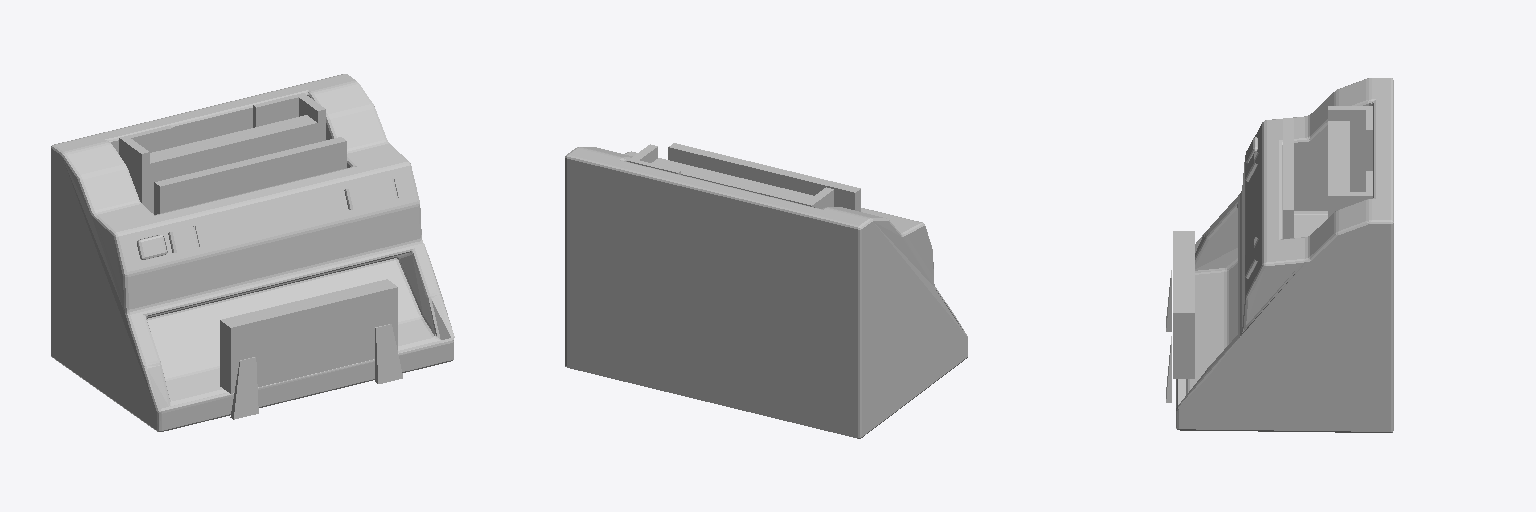
The model's file is moneymachine_1.obj.
3 renders of one model, left to right at view 1: azimuth 30°, elevation 25°; view 2: azimuth 150°, elevation 25°; view 3: azimuth 270°, elevation 25°, orthographic.
Visible parts, largest first — view 1: Cube.103_Material.007, Cube.103_Material.002, Cube.103_Material.012, Cube.103_Material.009, Cube.103_Material.001, Cube.103_Material.008; view 2: Cube.103_Material.007, Cube.103_Material.001, Cube.103_Material.002, Cube.103_Material.008; view 3: Cube.103_Material.007, Cube.103_Material.012, Cube.103_Material.002, Cube.103_Material.008, Cube.103_Material.001, Cube.103_Material.009.
Part boxes in pixels (x1,y1,x2,y2): Cube.103_Material.007: (51,74,454,431); Cube.103_Material.002: (150,115,397,393); Cube.103_Material.012: (109,92,437,403); Cube.103_Material.009: (116,163,419,274); Cube.103_Material.001: (154,137,402,419); Cube.103_Material.008: (119,93,325,210); Cube.103_Material.007: (565,147,967,438); Cube.103_Material.001: (668,143,860,211); Cube.103_Material.002: (652,158,813,200); Cube.103_Material.008: (627,144,833,208); Cube.103_Material.007: (1176,78,1393,432); Cube.103_Material.012: (1188,101,1373,392); Cube.103_Material.002: (1173,121,1349,378); Cube.103_Material.008: (1328,106,1372,217); Cube.103_Material.001: (1166,118,1293,402); Cube.103_Material.009: (1245,122,1263,297).
Size of the model in its own units: 17.03 by 11.57 by 11.23.